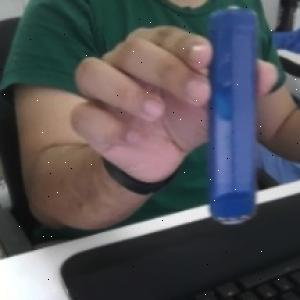Diamond-E-Ciggirate: (205, 5, 258, 229)
